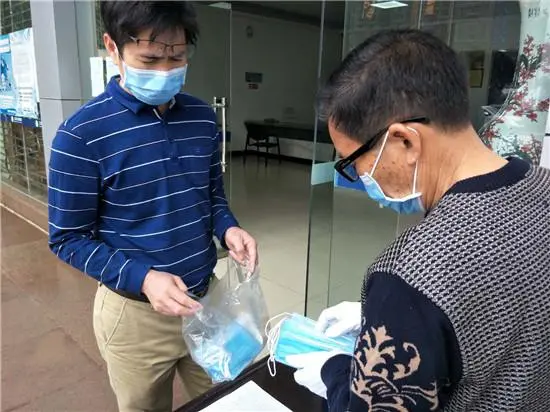withmask: (314, 35, 495, 221), (91, 2, 215, 112)
